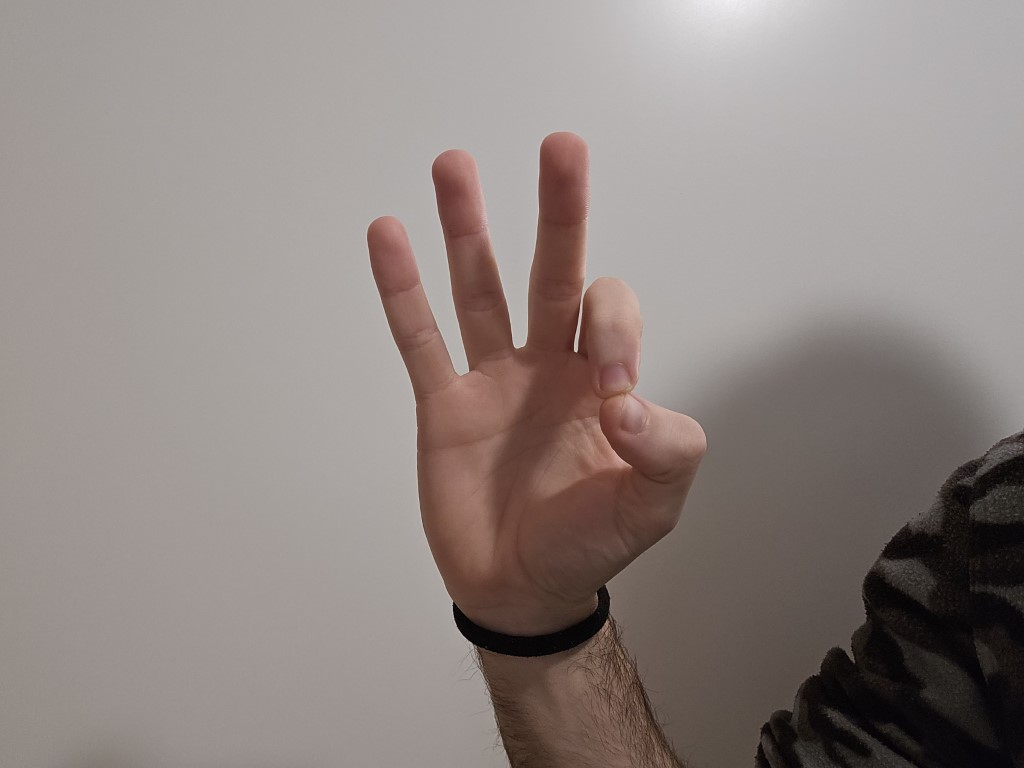f: (314, 127, 719, 604)
